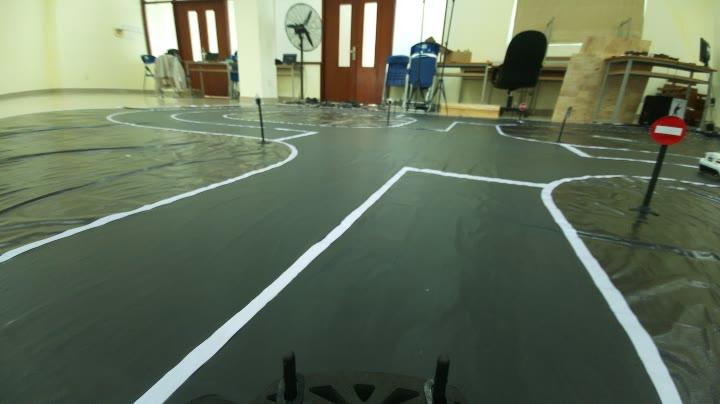no_entry: (652, 110, 688, 149)
